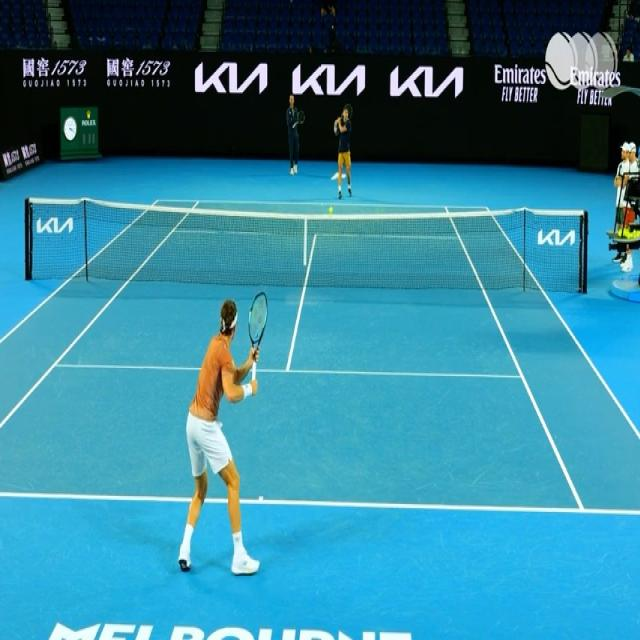forehand-ready: (184, 301, 276, 578)
